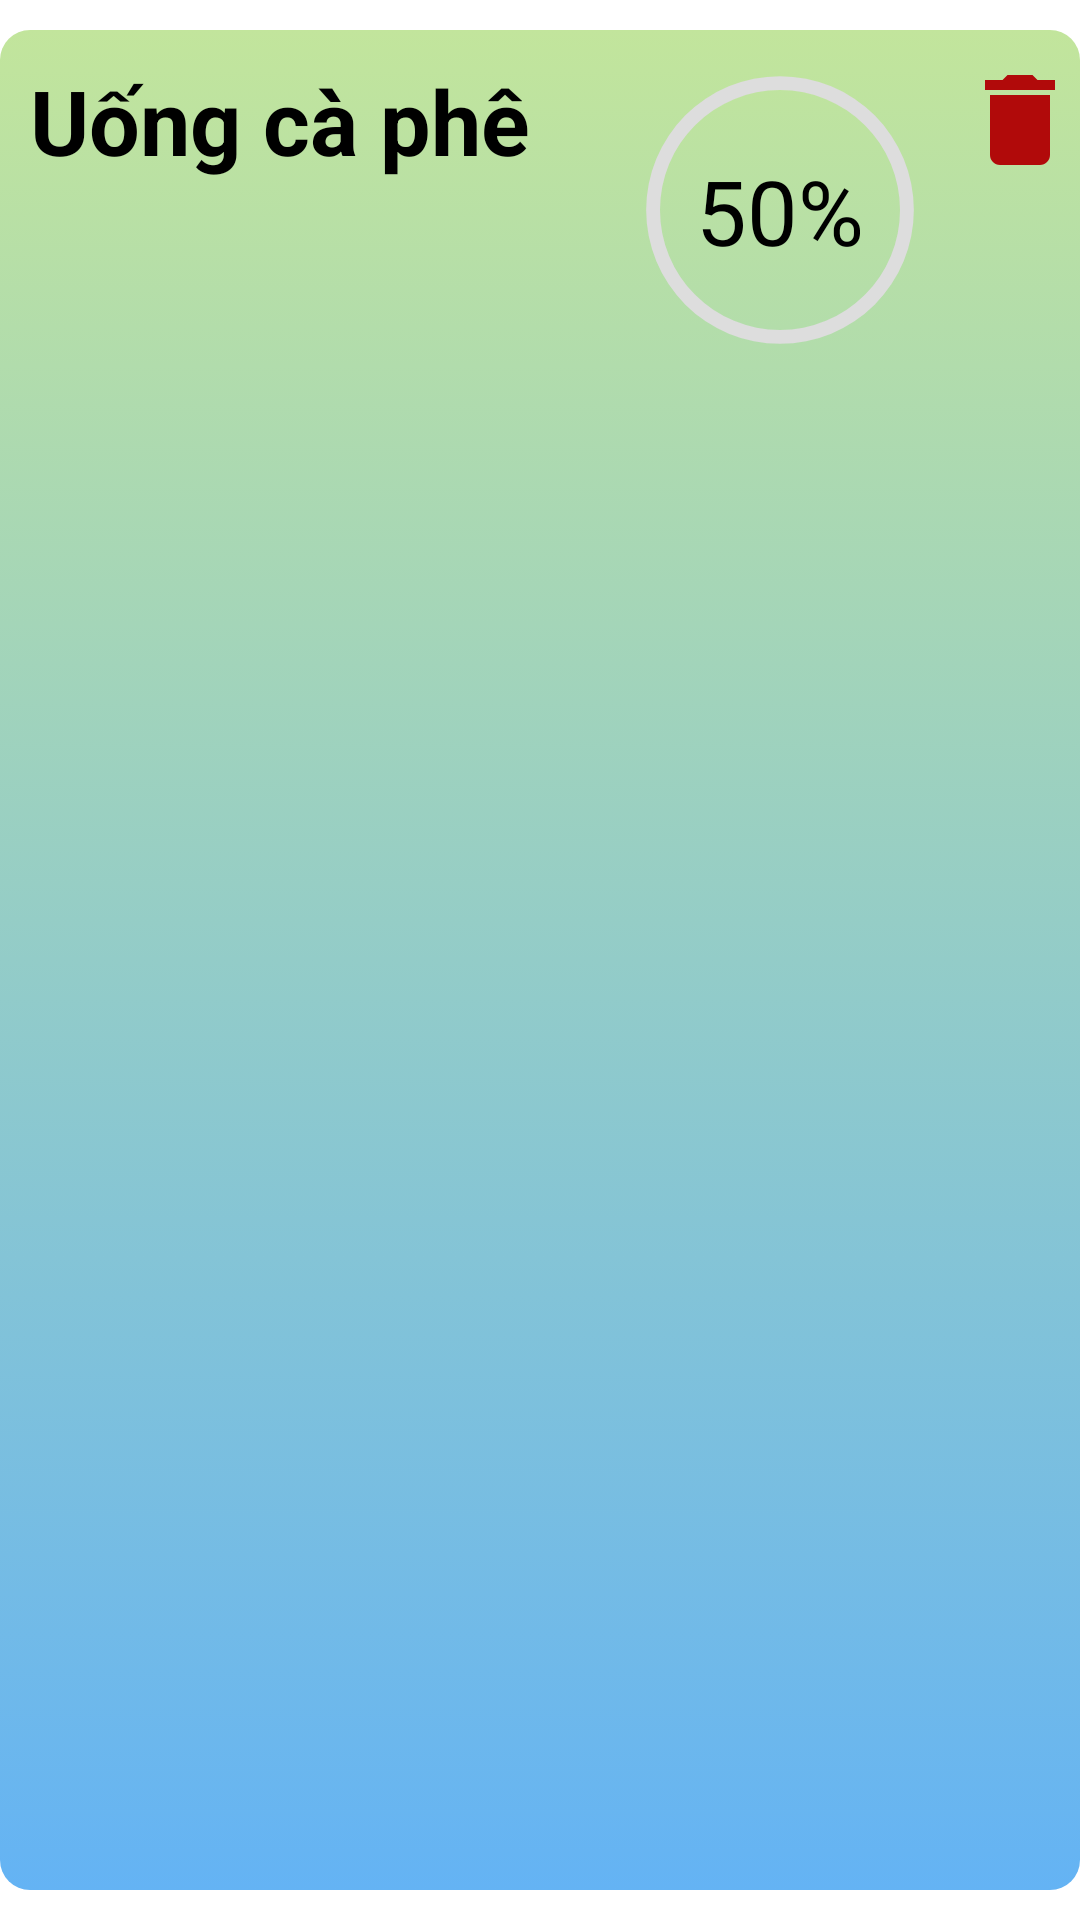

Icons on this 1080x1920 Android screen, each with the point to tap as (x=x, y=y):
delete: (x=1020, y=120)
